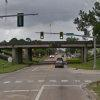Crosswalk: (6, 68, 86, 93)
